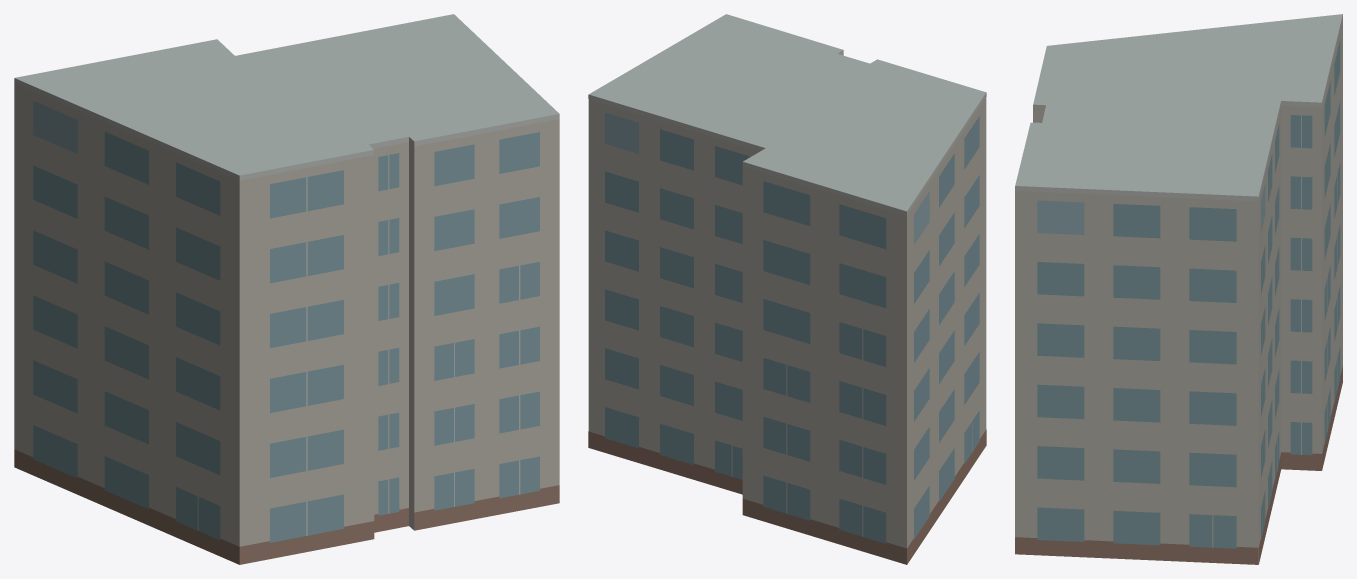
The model's file is survey-upis-32661509.glb.
The picture shows the model from 3 angles, left to right: view 1: azimuth 30°, elevation 25°; view 2: azimuth 150°, elevation 25°; view 3: azimuth 270°, elevation 25°; orthographic projection. The views are drawn at different scales.
Parts seen in each view (by area): view 1: survey-upis-32661509.tmp; view 2: survey-upis-32661509.tmp; view 3: survey-upis-32661509.tmp.
Boxes of the visible parts, left/top/right/bottom form: survey-upis-32661509.tmp: left=14, top=14, right=559, bottom=564; survey-upis-32661509.tmp: left=588, top=14, right=986, bottom=564; survey-upis-32661509.tmp: left=1015, top=14, right=1342, bottom=564.
Bounding box in the file's own units: 19.46 × 18.3 × 14.77.
